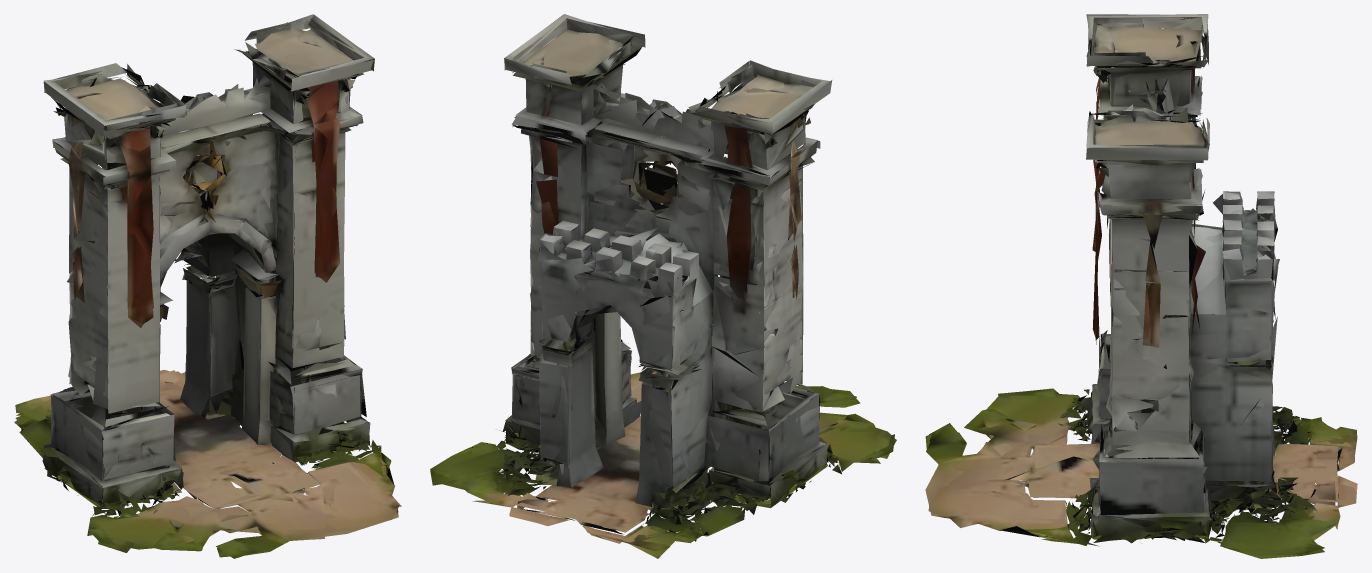
The model's file is town_gate.glb.
3 views of the same model, side by side, from view 1: azimuth 30°, elevation 25°; view 2: azimuth 150°, elevation 25°; view 3: azimuth 270°, elevation 25° (orthographic). The views are drawn at different scales.
Visible parts, largest first — view 1: town_gate; view 2: town_gate; view 3: town_gate.
Boxes of the visible parts, x1,y1,x2,y2 form: town_gate: (14, 14, 401, 558); town_gate: (430, 14, 896, 558); town_gate: (925, 14, 1357, 558).
Bounding box in the file's own units: 5.78 × 6.7 × 6.44.
1 material, 1 textured.
